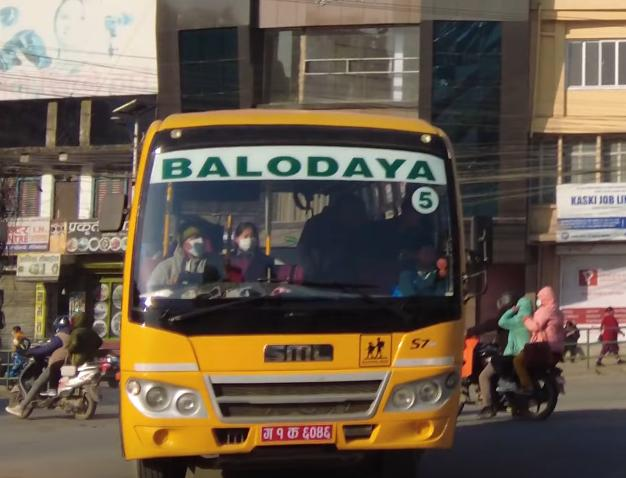school_bus: (115, 108, 474, 478)
scooter: (8, 343, 101, 424)
